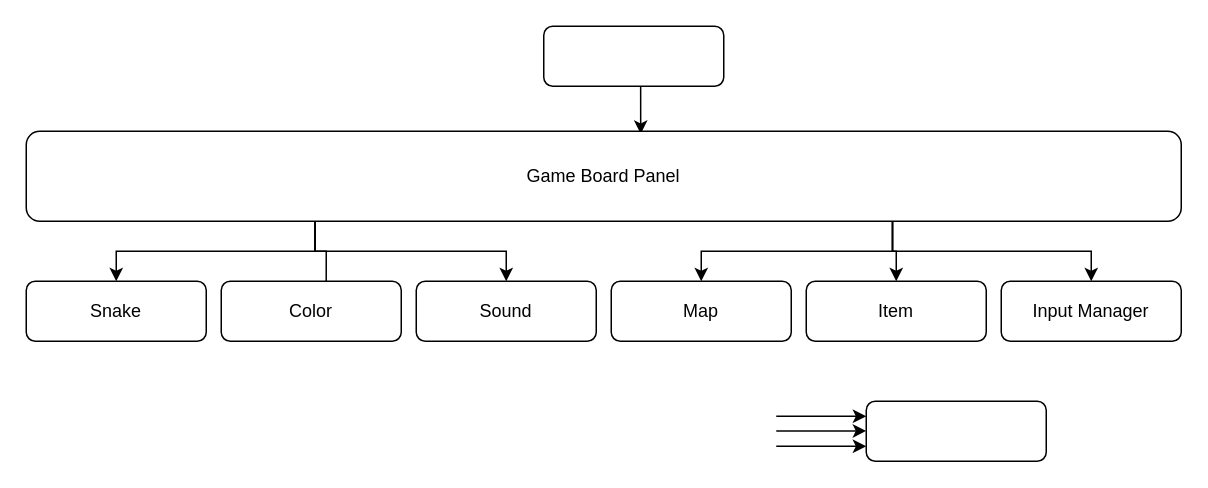
Some shapes in this 1208 by 488 pixel diagram are drawn without their labels. Here are the shapes that lost their labels. From the top down, the centre of each, then its label:
At point 633,55: "Main".
At point 955,430: "Hardware-hiding".
